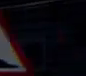Speed Breaker ahead: (0, 23, 25, 75)
